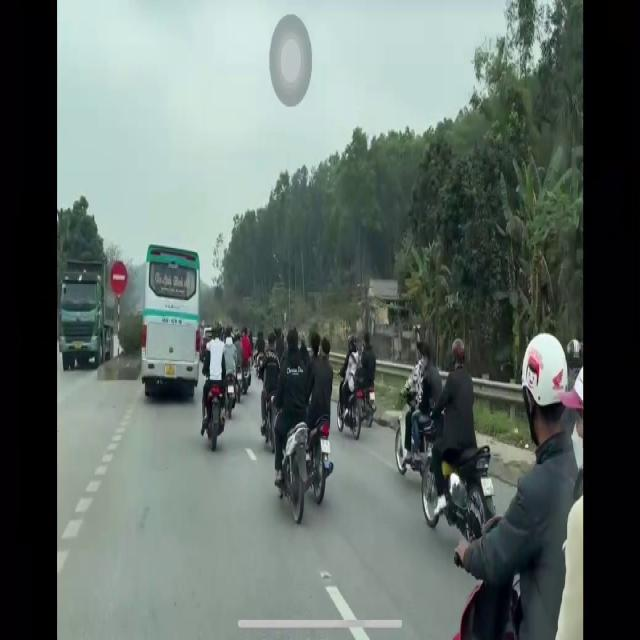helmet: (521, 329, 568, 443), (450, 336, 467, 379)
no_helmet: (285, 326, 301, 365), (420, 337, 437, 372), (310, 323, 320, 363), (364, 325, 371, 356), (268, 327, 276, 354)
